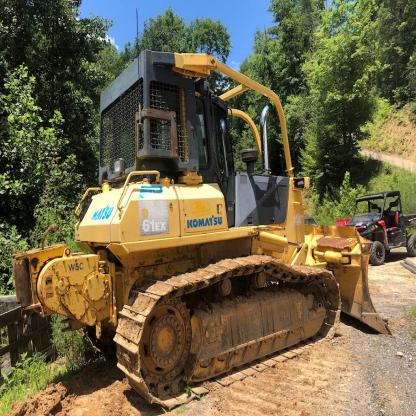bull_dozer/loader/grader: (29, 45, 397, 402)
